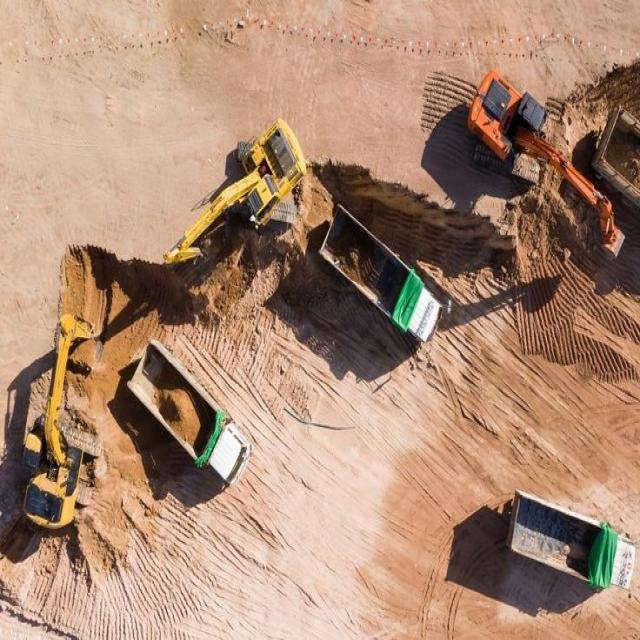excavator: (163, 118, 307, 265), (22, 315, 101, 530)
